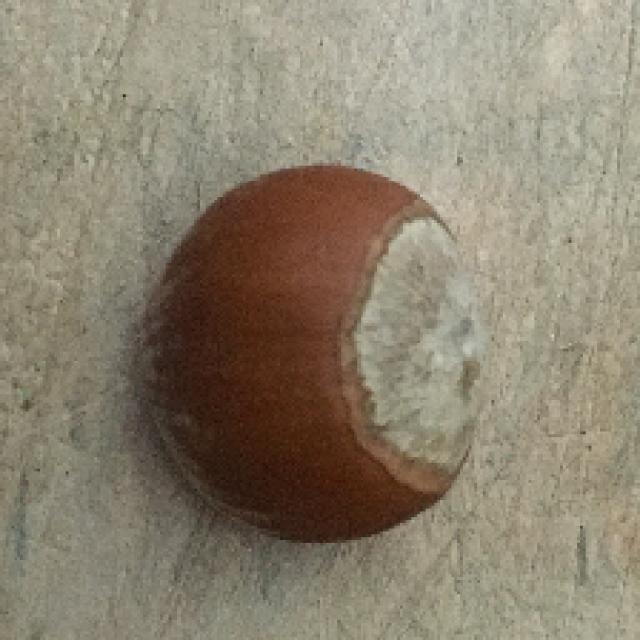qualityHazelnut: (128, 156, 490, 548)
